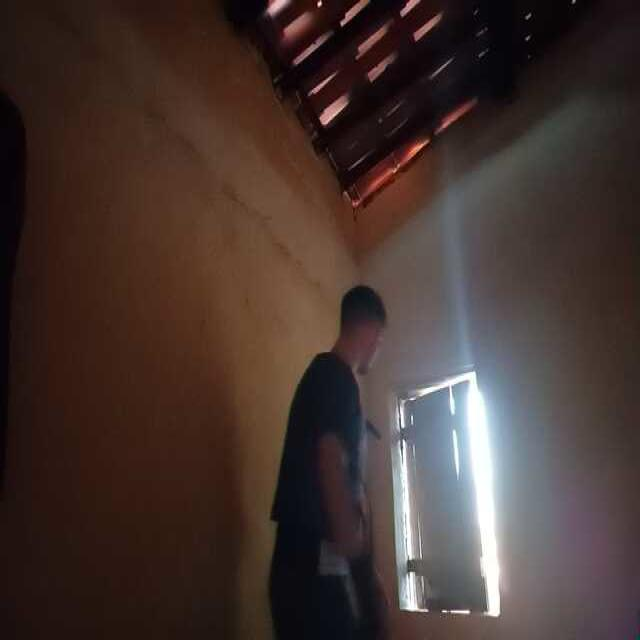colete: (281, 349, 371, 548)
pessoa: (284, 286, 383, 633)
